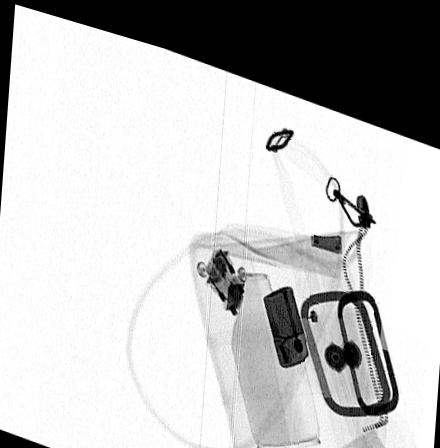Lighter: (262, 268, 308, 352)
